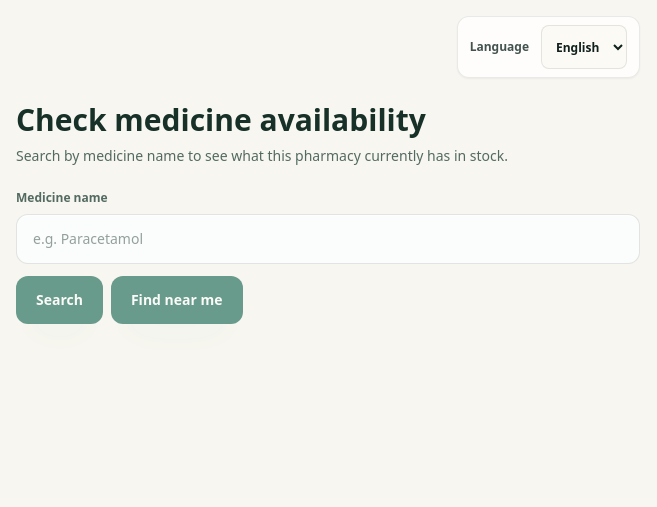
it: PublicMedicineSearch › renders Task 0026 availability state CONFIRMATION_REQUIRED without claiming stock
The image size is (657, 507).
Type "paracetamol" into the field labelled "Medicine name".
click(328, 239); type("paracetamol")  # box [16, 214, 640, 264]
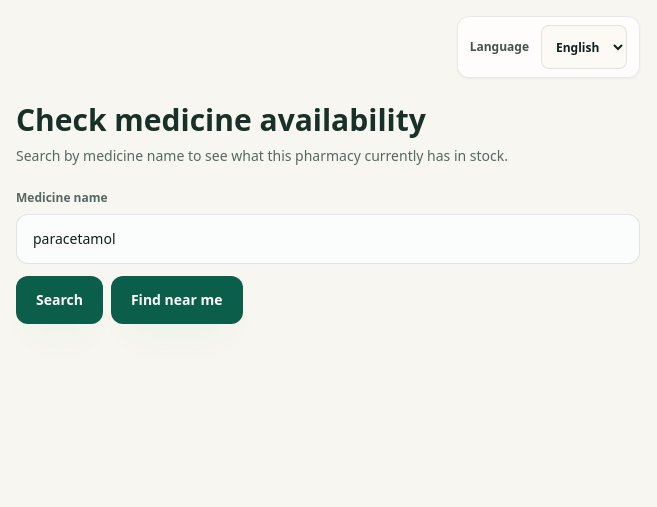
Click the button "Search".
click(59, 300)  # box [16, 276, 103, 324]
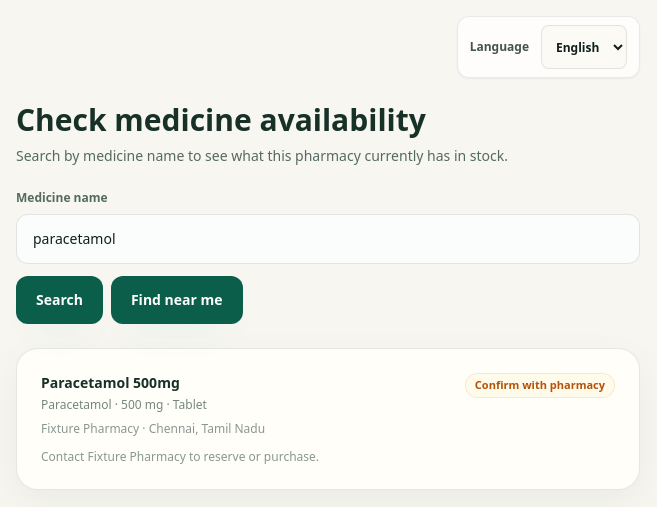
Now the text "Confirm with pharmacy" is shown, box [465, 373, 615, 398]
